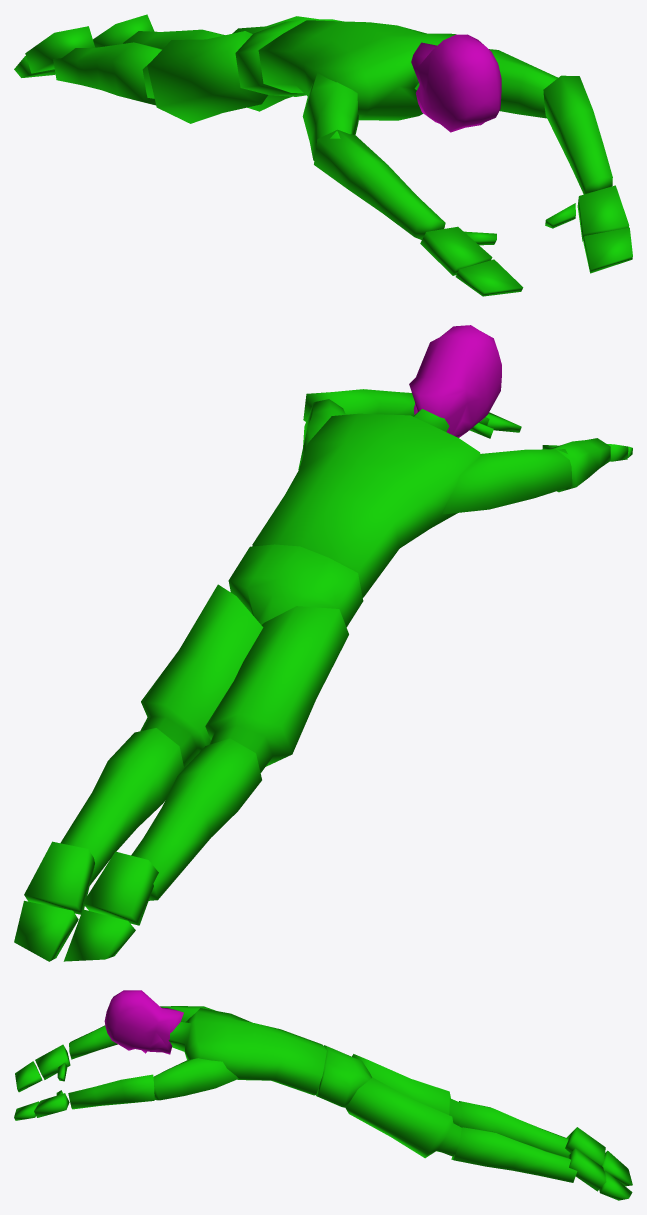
The model's file is JumpDiveCharacter.FBX.
3 renders of one model, top to bottom at view 1: azimuth 30°, elevation 25°; view 2: azimuth 150°, elevation 25°; view 3: azimuth 270°, elevation 25°, orthographic. The views are drawn at different scales.
Visible parts, largest first — view 1: Body, Head; view 2: Body, Head; view 3: Body, Head.
Part boxes in pixels (x1,y1,x2,y2): Body: [14, 14, 632, 296]; Head: [411, 34, 501, 132]; Body: [14, 389, 632, 961]; Head: [409, 325, 501, 437]; Body: [14, 1006, 632, 1200]; Head: [104, 990, 183, 1054].
Bounding box in the file's own units: 0.7229 × 0.8379 × 2.33.
